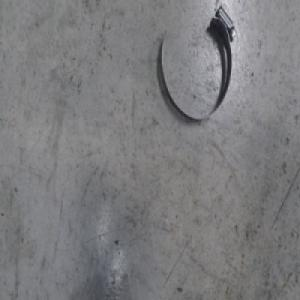AdjustableClamp: (159, 2, 238, 123)
